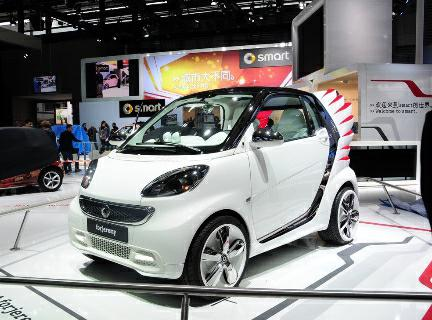smart-forjeremy: (67, 89, 352, 293)
